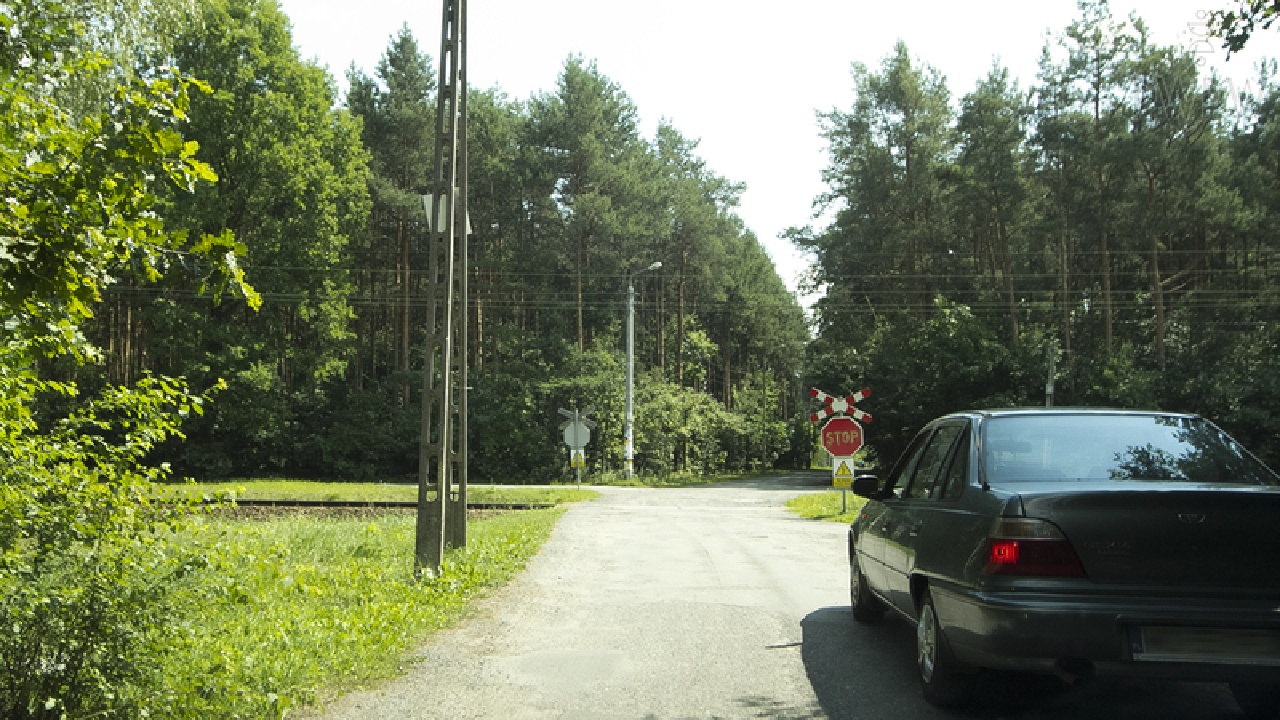B20: (820, 416, 864, 458)
